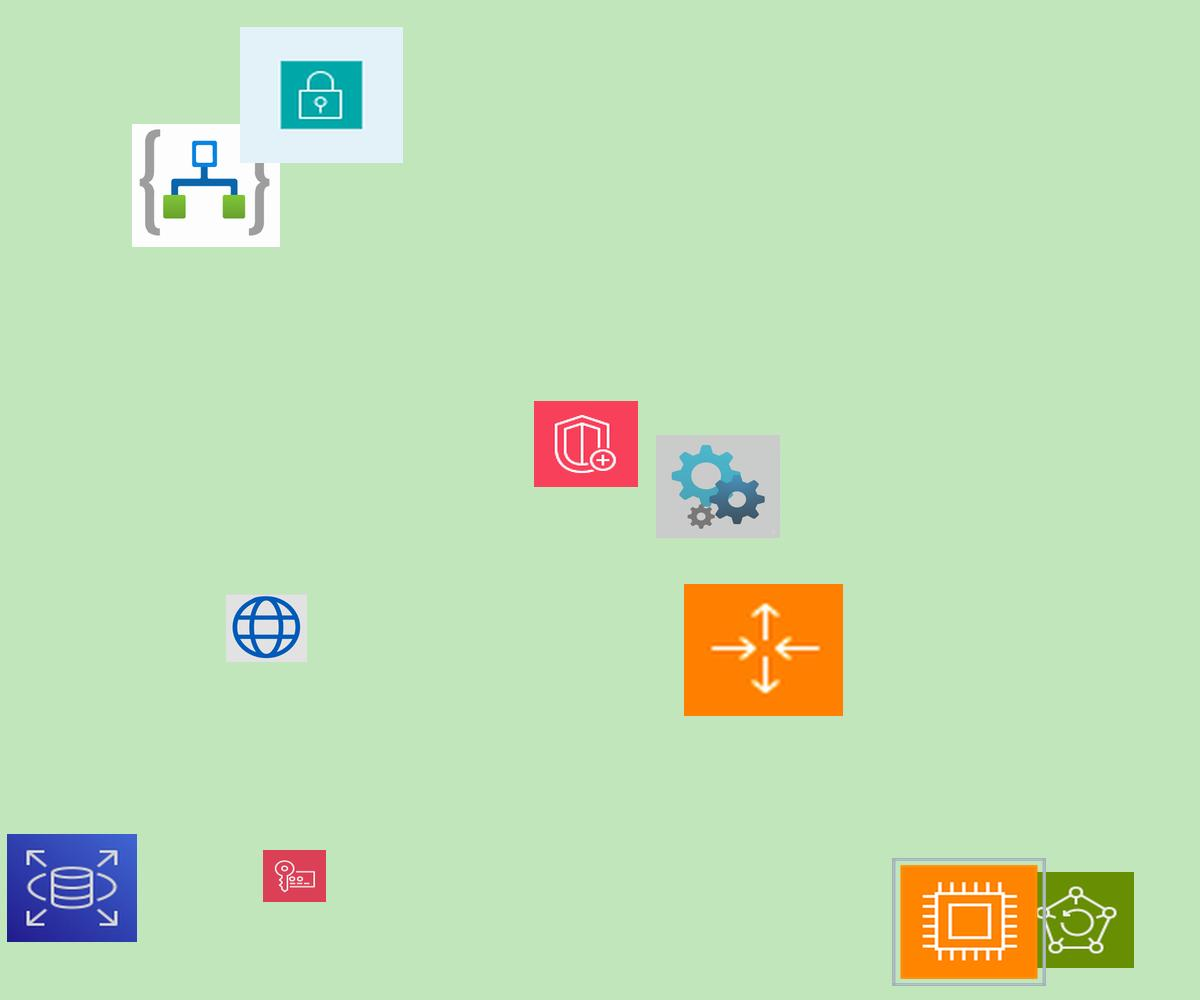AWS-Backup: (1018, 872, 1134, 968)
AWS-Category_Compute: (892, 858, 1046, 986)
AWS-Key-Management-Service: (263, 850, 326, 902)
AWS-Private-subnet: (240, 27, 403, 163)
AWS-RDS: (7, 834, 137, 942)
AWS-Scaling-group: (684, 584, 843, 716)
AWS-Shield: (534, 401, 638, 487)
Azure_api: (656, 435, 780, 538)
Azure_http: (226, 594, 307, 662)
Azure_integration-204-Logic-Apps: (132, 124, 280, 247)
